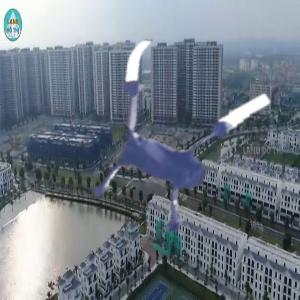drone: (64, 33, 291, 260)
